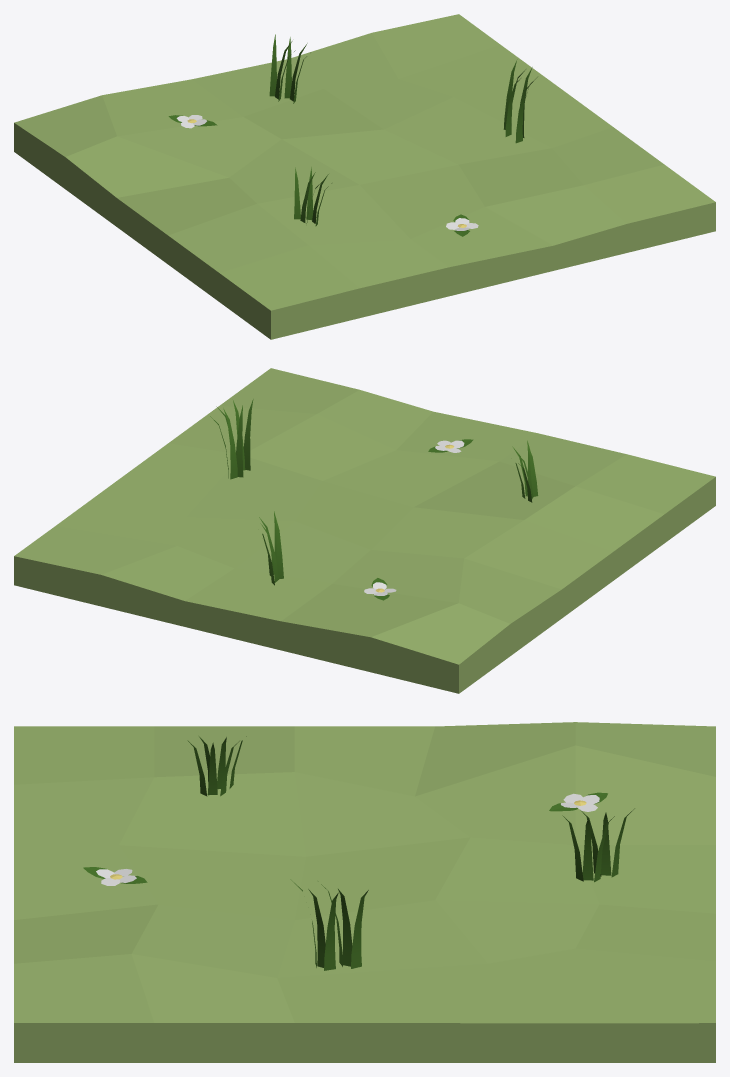
The model's file is ModelPanelBlock_Kusa.fbx.
3 views of the same model, one above another, from view 1: azimuth 30°, elevation 25°; view 2: azimuth 150°, elevation 25°; view 3: azimuth 270°, elevation 25° (orthographic). The views are drawn at different scales.
Visible parts, largest first — view 1: PanelBlock_kusa; view 2: PanelBlock_kusa; view 3: PanelBlock_kusa.
Boxes of the visible parts, box(x1,y1,x2,y2) form: PanelBlock_kusa: box(14, 14, 715, 339); PanelBlock_kusa: box(14, 368, 715, 693); PanelBlock_kusa: box(14, 722, 715, 1062).
Size of the model in its own units: 4 by 0.806 by 4.
